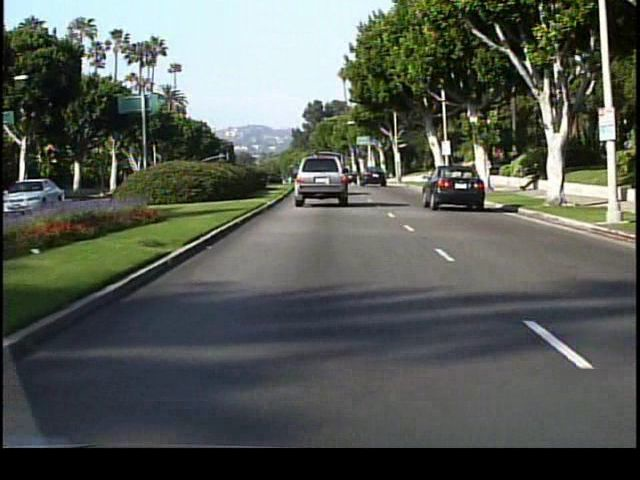person: (521, 159, 544, 196)
